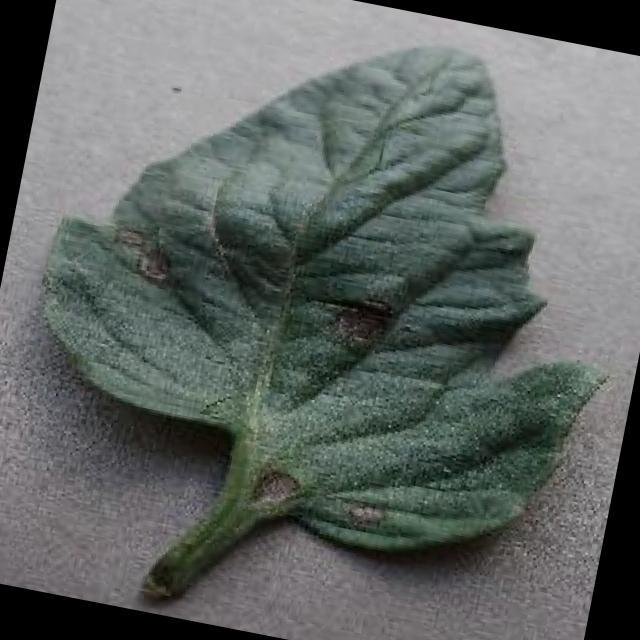Tomato Early blight leaf: (2, 0, 640, 598)
